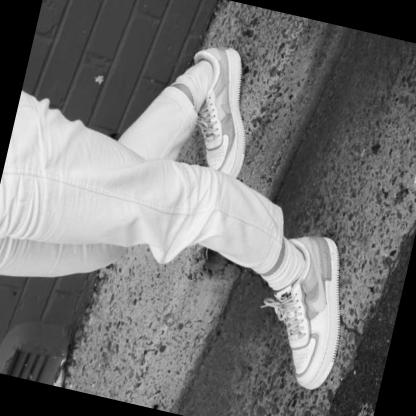ankle: (299, 263, 304, 268), (207, 77, 211, 83)
heel: (229, 54, 234, 60), (329, 246, 334, 251)
left_foot: (258, 230, 361, 393)
pinky: (323, 346, 327, 352), (214, 166, 216, 168)
right_foot: (174, 42, 269, 180)
toe: (298, 370, 302, 376), (229, 165, 232, 169)
